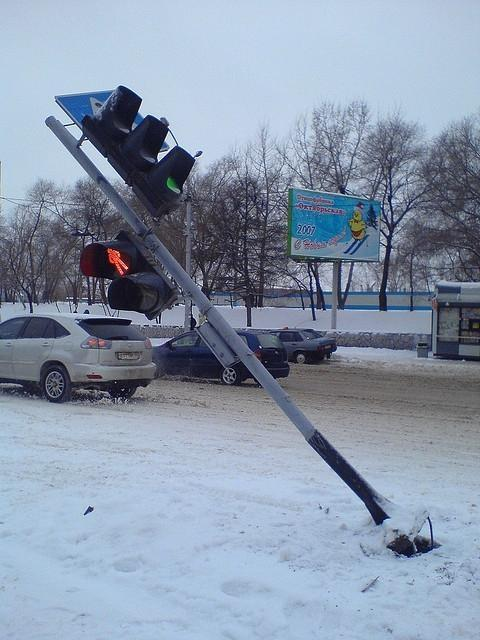car: (0, 312, 157, 404), (153, 331, 257, 385), (269, 326, 337, 364)
